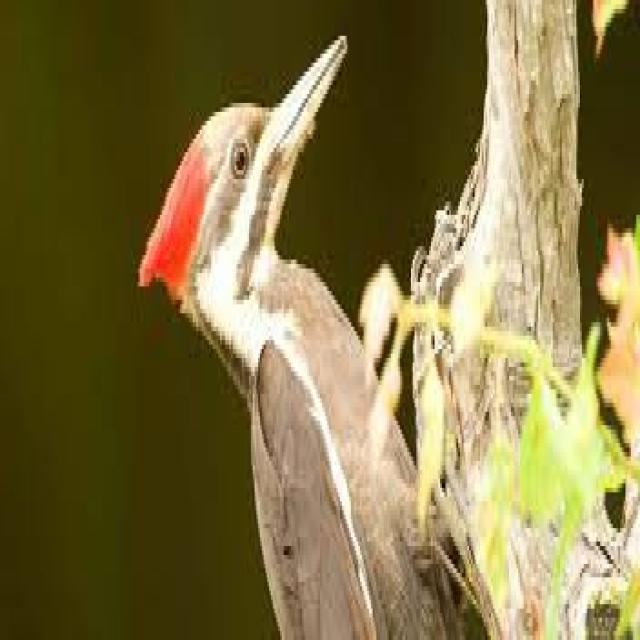woodpecker: (138, 36, 464, 636)
